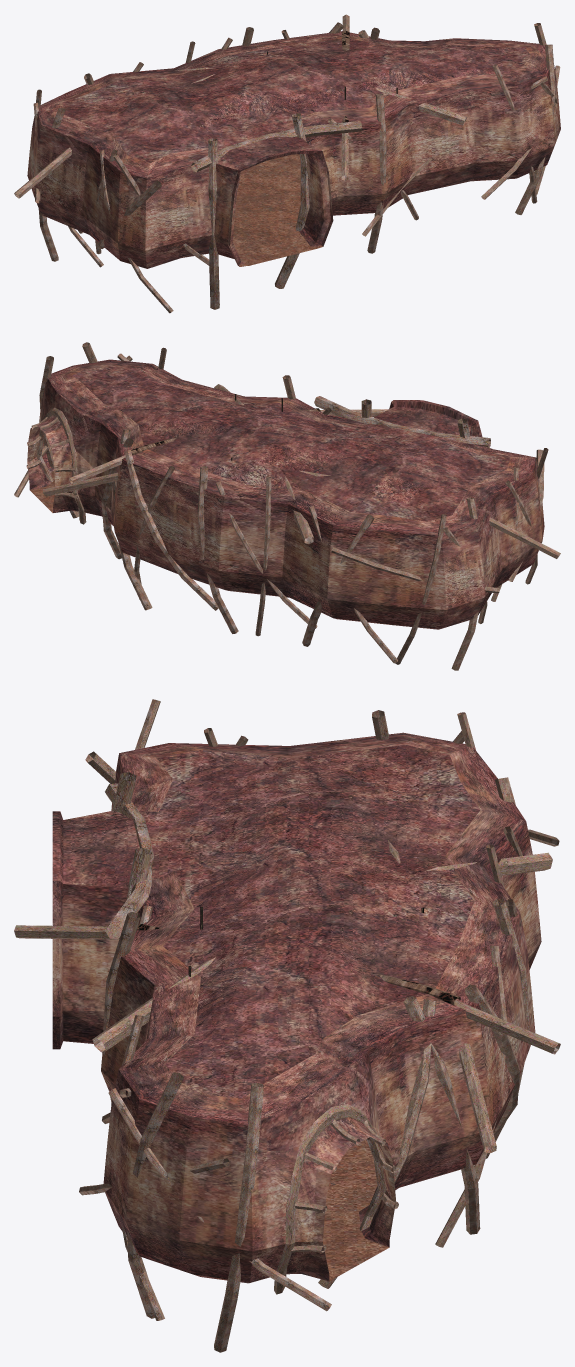
The model's file is thm_dath_night_sister_stronghold_r4_mesh_r4.fbx.
3 views of the same model, one above another, from view 1: azimuth 30°, elevation 25°; view 2: azimuth 150°, elevation 25°; view 3: azimuth 270°, elevation 25° (orthographic). The views are drawn at different scales.
Parts seen in each view (by area): view 1: mesh_node; view 2: mesh_node; view 3: mesh_node.
Boxes of the visible parts, bbox=[...] form: mesh_node: bbox=[14, 14, 560, 313]; mesh_node: bbox=[14, 342, 560, 670]; mesh_node: bbox=[14, 699, 560, 1352].
Size of the model in its own units: 22.58 by 7.36 by 11.72.
